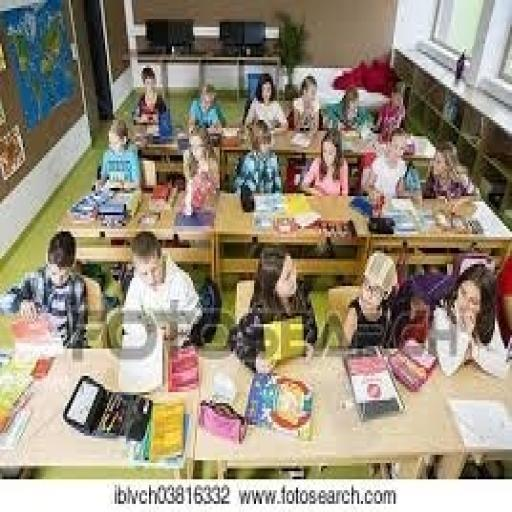sitting: (8, 60, 506, 378)
